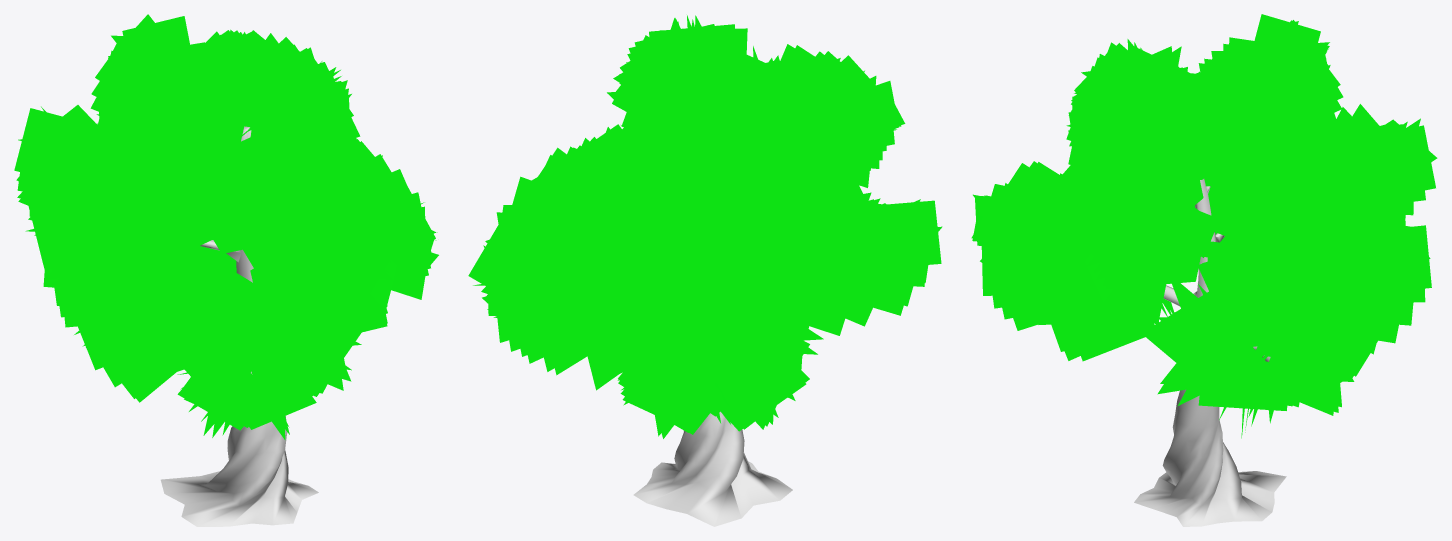
The model's file is Tree_03.fbx.
The picture shows the model from 3 angles, left to right: view 1: azimuth 30°, elevation 25°; view 2: azimuth 150°, elevation 25°; view 3: azimuth 270°, elevation 25°; orthographic projection. The views are drawn at different scales.
Visible parts, largest first — view 1: tree.001; view 2: tree.001; view 3: tree.001.
Part boxes in pixels (box(x1,y1,x2,y2)): tree.001: box(14, 14, 438, 526); tree.001: box(468, 15, 942, 526); tree.001: box(971, 14, 1437, 526).
Size of the model in its own units: 22.22 by 28.32 by 26.45.
